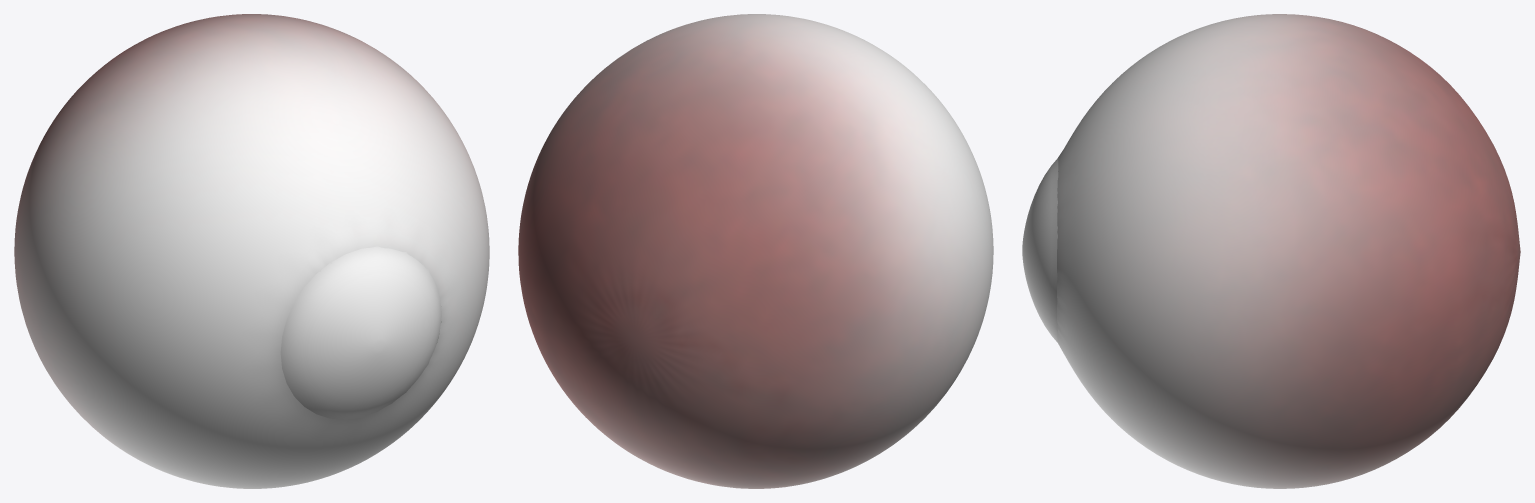
File: green_eye.glb
3 views of the same model, side by side, from view 1: azimuth 30°, elevation 25°; view 2: azimuth 150°, elevation 25°; view 3: azimuth 270°, elevation 25° (orthographic).
Parts seen in each view (by area): view 1: Sclera_1; view 2: Sclera_1; view 3: Sclera_1.
Boxes of the visible parts, x1,y1,x2,y2 form: Sclera_1: (14, 14, 489, 488); Sclera_1: (518, 14, 993, 488); Sclera_1: (1022, 14, 1520, 488).
Size of the model in its own units: 281 by 281 by 295.
2 materials, 2 textured.
